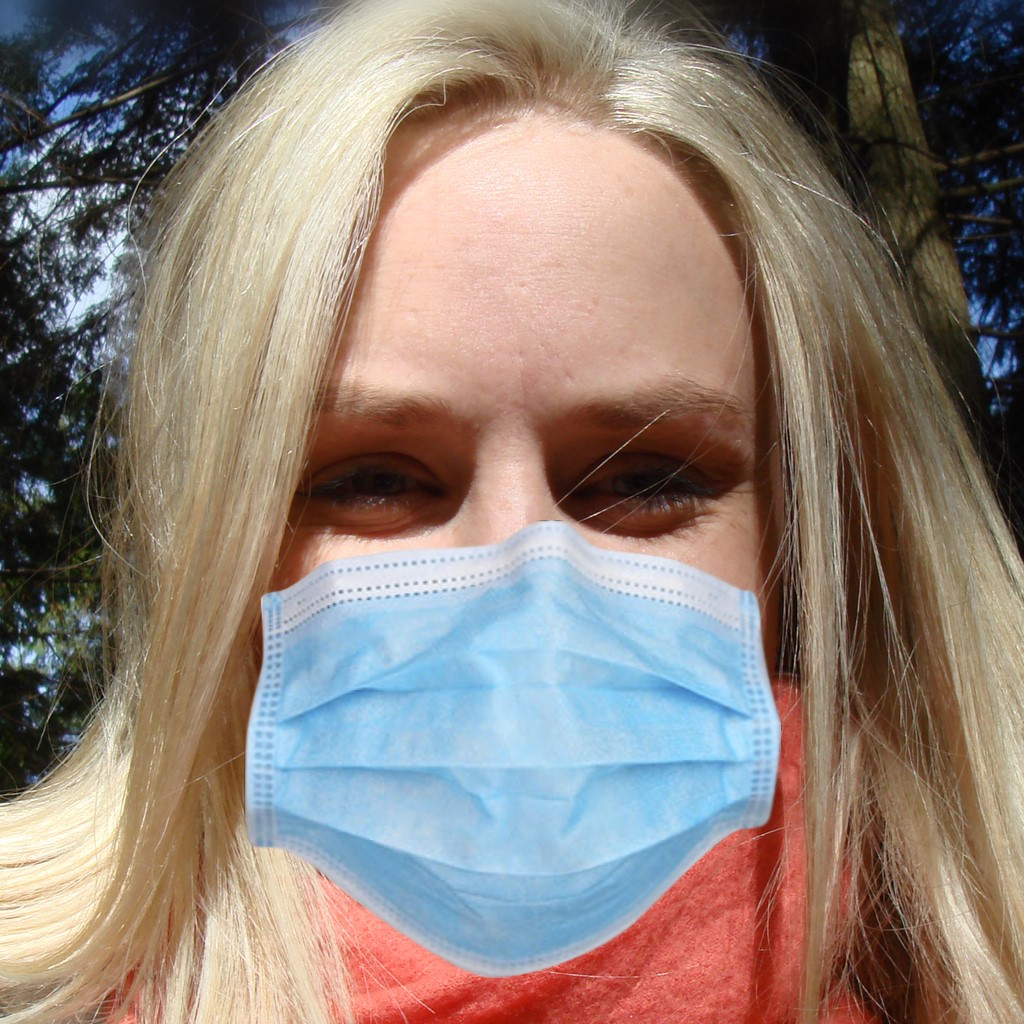con_mascara: (216, 103, 777, 984)
